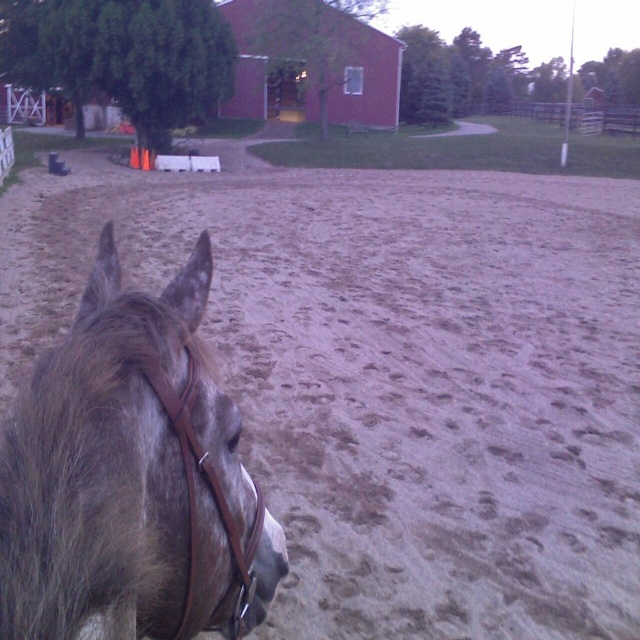Horse: (0, 222, 292, 639)
